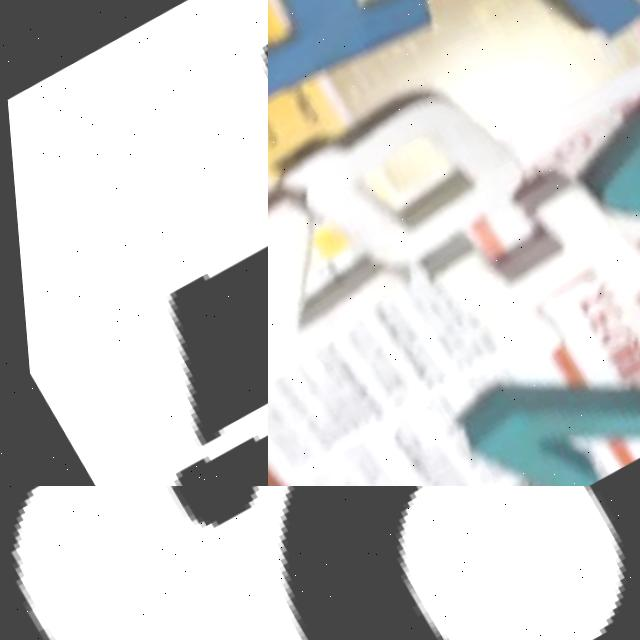3: (0, 486, 268, 640)
H: (403, 161, 640, 387)
J: (564, 70, 640, 287)
P: (612, 292, 640, 448)
Q: (268, 58, 532, 298), (268, 486, 640, 640)
T: (268, 0, 466, 130)
V: (426, 345, 640, 486)
Z: (268, 158, 399, 408)
